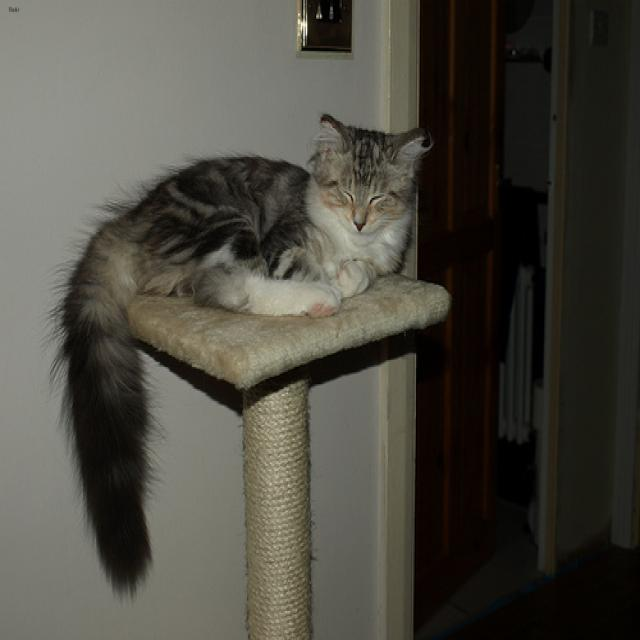cat: (311, 111, 431, 244)
